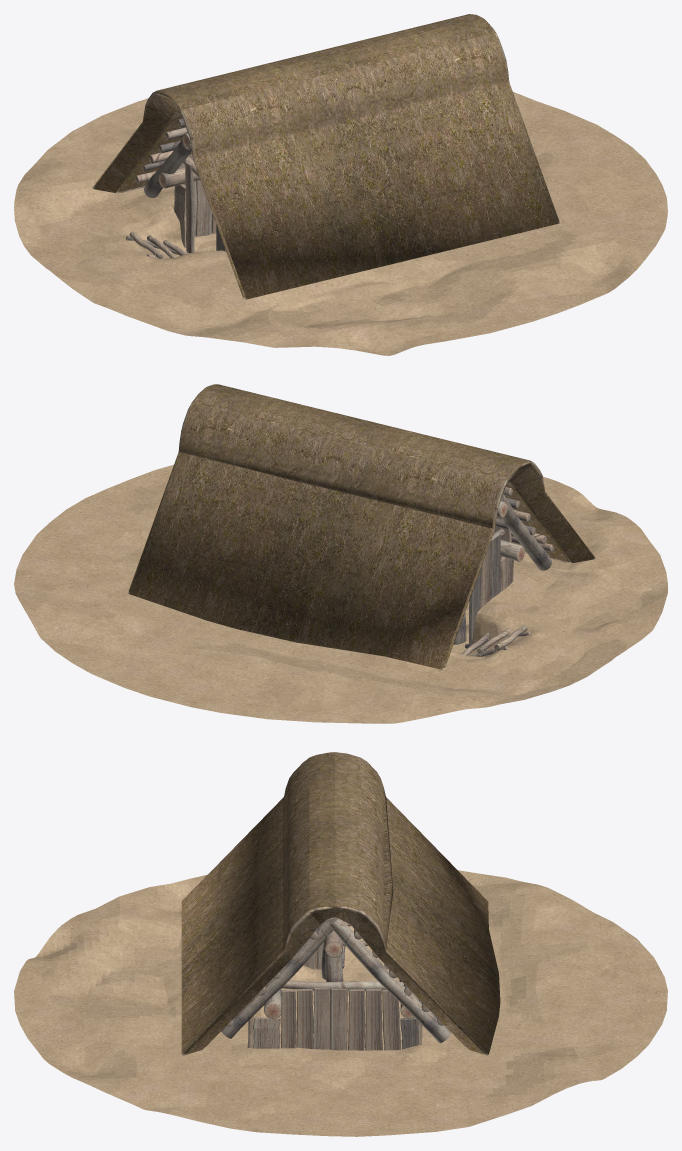
Rendered from App_grubenhaus.glb.
The picture shows the model from 3 angles, top to bottom: view 1: azimuth 30°, elevation 25°; view 2: azimuth 150°, elevation 25°; view 3: azimuth 270°, elevation 25°; orthographic projection.
Visible parts, largest first — view 1: Cube, Plane, Cylinder.003, Cube.007, Cube.037, Cube.006; view 2: Cube, Plane, Cylinder.014, Cube.004, Cube.001, Cube.003; view 3: Plane, Cube, Cylinder.008, Cylinder.009, Cube.012, Cube.009, Cube.008, Cube.013, Cube.014, Cube.010, Cube.011, Cube.042 (+1 smaller).
Part boxes in pixels (<box>): Cube: <box>92,14,559,299</box>; Plane: <box>14,92,667,355</box>; Cylinder.003: <box>144,132,191,197</box>; Cube.007: <box>185,161,194,253</box>; Cube.037: <box>195,180,212,236</box>; Cube.006: <box>174,184,186,247</box>; Cube: <box>128,384,595,669</box>; Plane: <box>14,464,667,723</box>; Cylinder.014: <box>500,494,551,570</box>; Cube.004: <box>490,533,500,598</box>; Cube.001: <box>469,566,481,643</box>; Cube.003: <box>481,540,491,607</box>; Plane: <box>14,870,667,1136</box>; Cube: <box>181,752,500,1055</box>; Cylinder.008: <box>329,917,450,1043</box>; Cylinder.009: <box>221,917,334,1038</box>; Cube.012: <box>331,988,348,1050</box>; Cube.009: <box>365,989,382,1050</box>; Cube.008: <box>348,989,365,1050</box>; Cube.013: <box>313,988,329,1049</box>; Cube.014: <box>296,989,313,1048</box>; Cube.010: <box>382,989,400,1050</box>; Cube.011: <box>281,990,296,1048</box>; Cube.042: <box>253,1017,280,1048</box>.
Bounding box in the file's own units: 10.2 × 3.35 × 10.17.
Materials: 14 (14 with a texture image).
